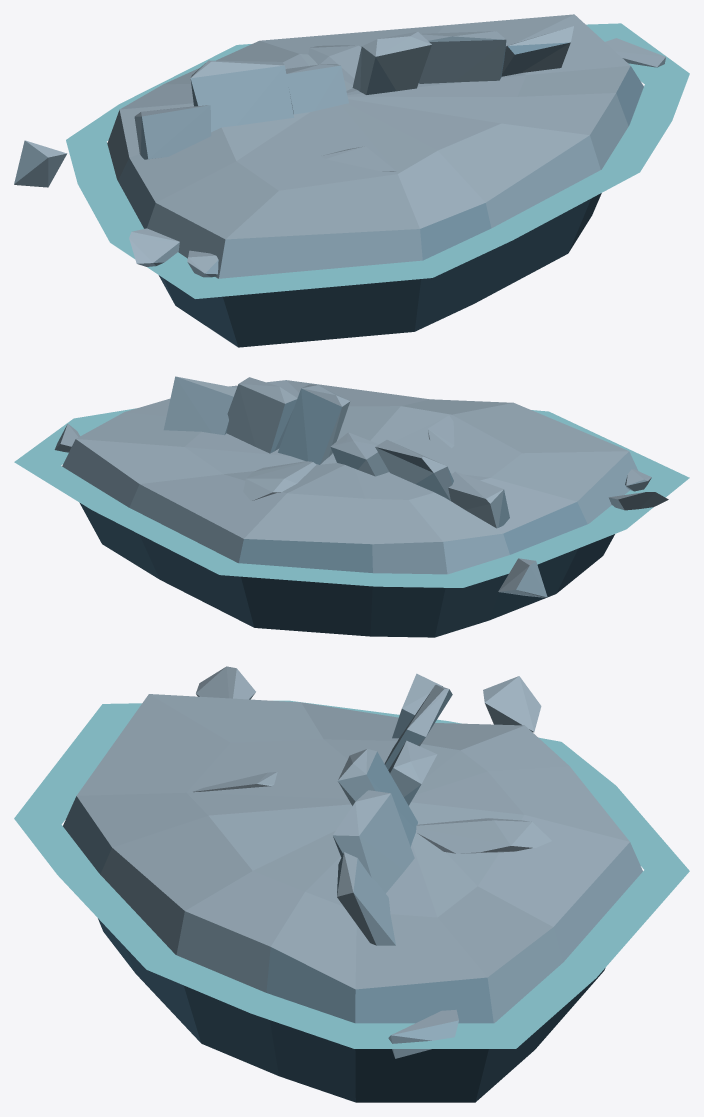
File: floe_a.glb
The picture shows the model from 3 angles, top to bottom: view 1: azimuth 30°, elevation 25°; view 2: azimuth 150°, elevation 25°; view 3: azimuth 270°, elevation 25°; orthographic projection. The views are drawn at different scales.
Parts seen in each view (by area): view 1: floe_a; view 2: floe_a; view 3: floe_a.
Part boxes in pixels (x1,y1,x2,y2): floe_a: (14,14,689,347); floe_a: (14,376,689,637); floe_a: (14,666,689,1102).
Size of the model in its own units: 5.47 by 1.63 by 4.4.
